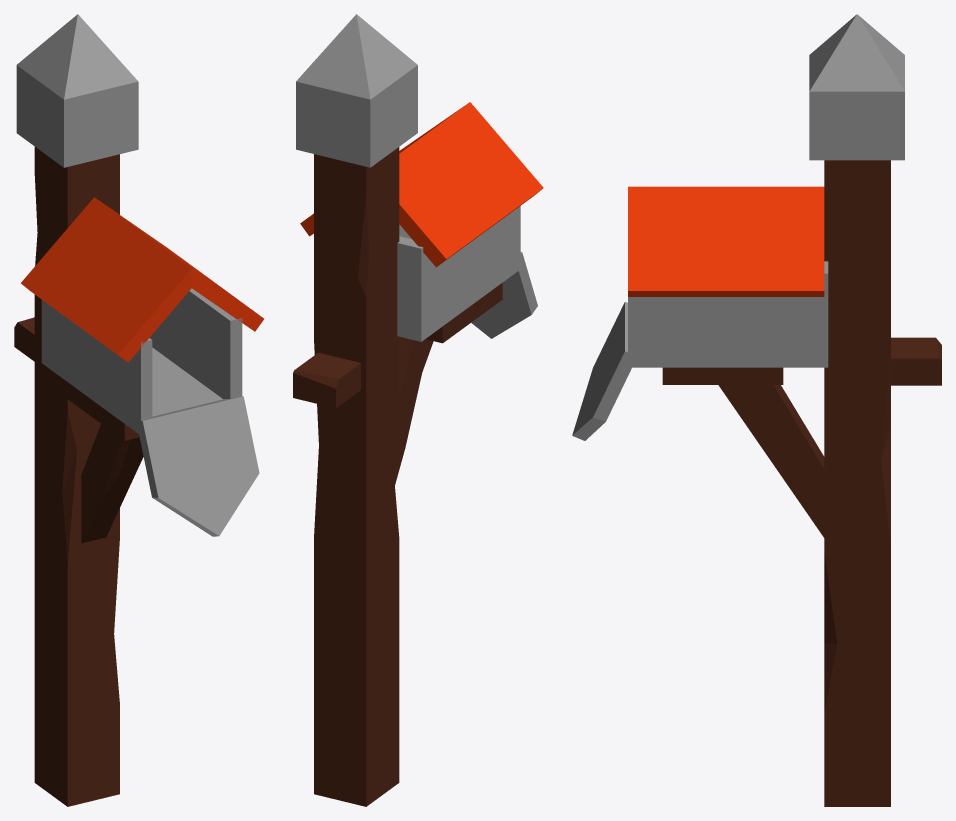
Rendered from Mailbox.fbx.
3 views of the same model, side by side, from view 1: azimuth 30°, elevation 25°; view 2: azimuth 150°, elevation 25°; view 3: azimuth 270°, elevation 25° (orthographic).
Parts seen in each view (by area): view 1: Mailbox; view 2: Mailbox; view 3: Mailbox.
Boxes of the visible parts, box(x1,y1,x2,y2) form: Mailbox: box(14, 14, 263, 806); Mailbox: box(293, 14, 543, 806); Mailbox: box(572, 14, 941, 806).
Size of the model in its own units: 10.67 by 53.93 by 23.16.
